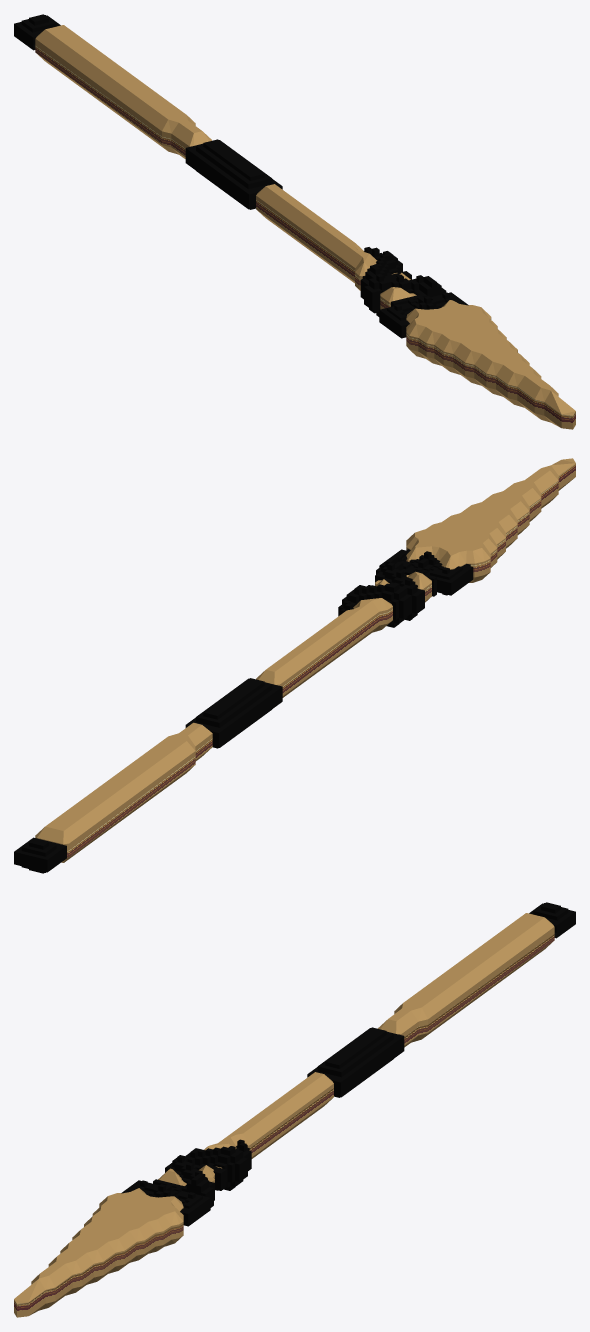
File: coiled_dragon_spear.obj
3 views of the same model, one above another, from view 1: azimuth 30°, elevation 25°; view 2: azimuth 150°, elevation 25°; view 3: azimuth 330°, elevation 25° (orthographic).
Visible parts, largest first — view 1: coiled_dragon_spear; view 2: coiled_dragon_spear; view 3: coiled_dragon_spear.
Boxes of the visible parts, left/top/right/bottom form: coiled_dragon_spear: left=14, top=14, right=575, bottom=429; coiled_dragon_spear: left=14, top=458, right=575, bottom=873; coiled_dragon_spear: left=14, top=902, right=575, bottom=1317.
Bounding box in the file's own units: 0.1771 × 0.0833 × 2.04.
